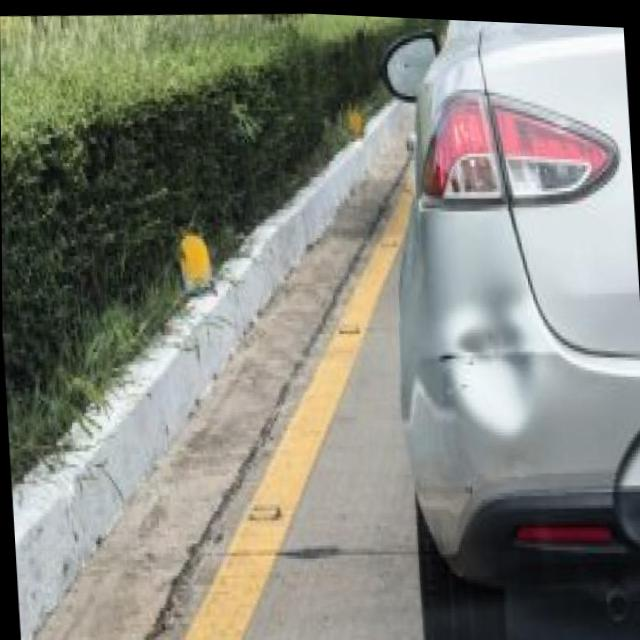Dent: (434, 279, 548, 442)
